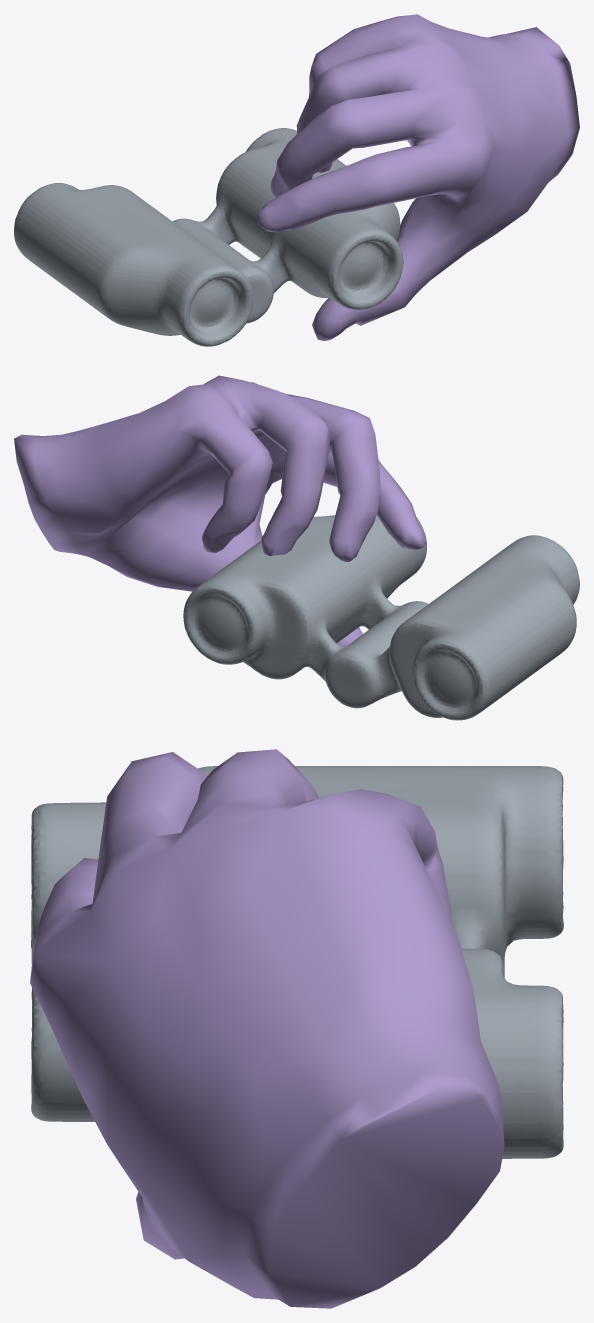
File: ours_2.glb
3 views of the same model, one above another, from view 1: azimuth 30°, elevation 25°; view 2: azimuth 150°, elevation 25°; view 3: azimuth 270°, elevation 25° (orthographic). The views are drawn at different scales.
Bounding box in the file's own units: 0.238 × 0.1213 × 0.1092.
